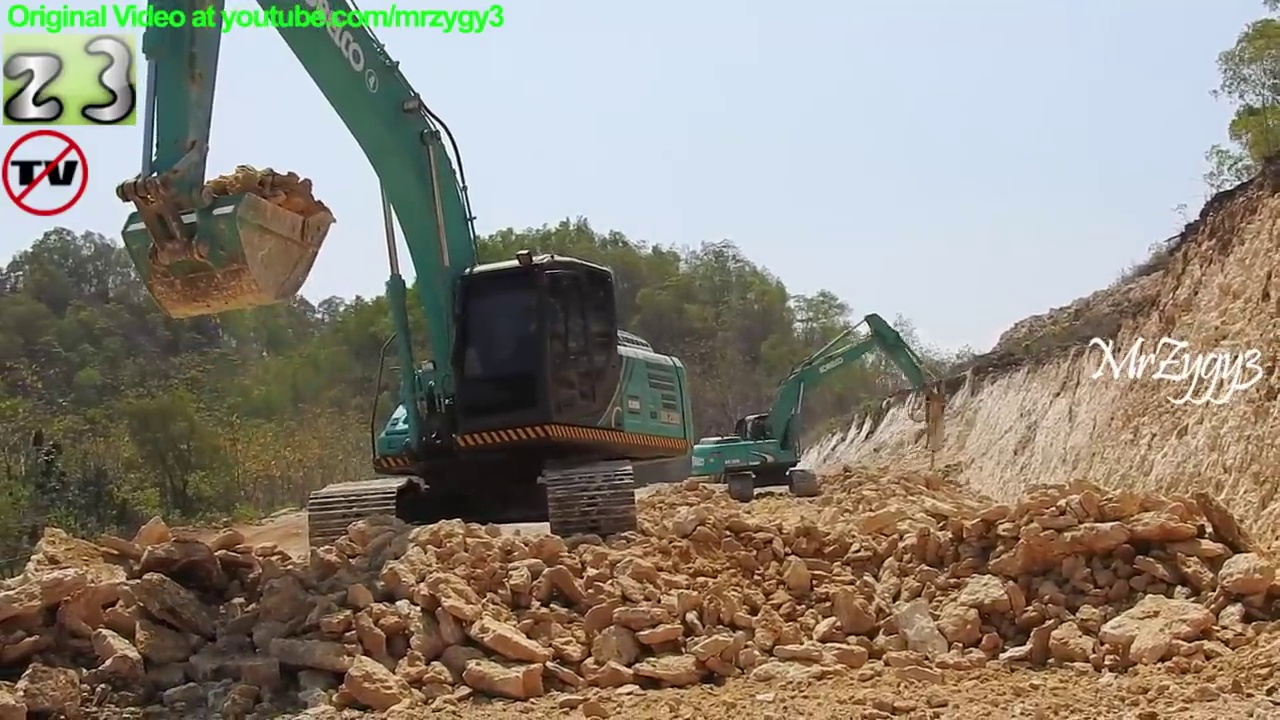excavator: (114, 1, 698, 588)
excavator breaker: (689, 307, 954, 505)
